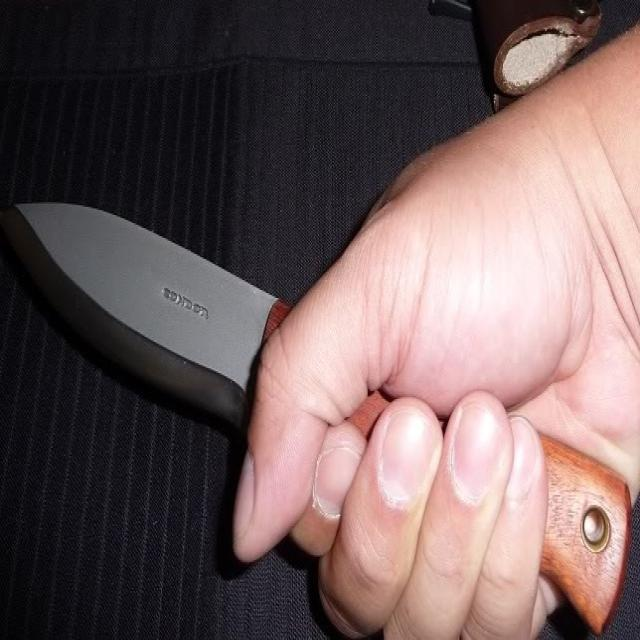knife: (7, 190, 261, 393)
